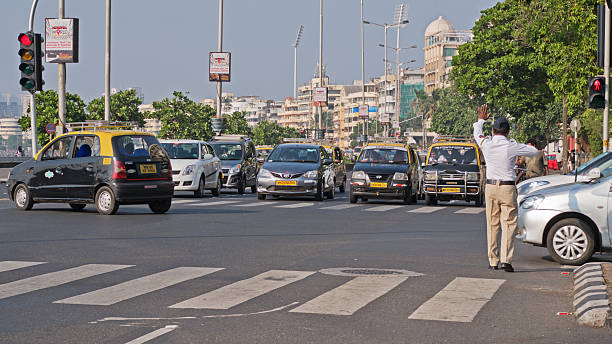car: (4, 129, 163, 211), (516, 159, 612, 265), (258, 142, 332, 201), (351, 142, 418, 200), (423, 139, 483, 203), (161, 139, 221, 196), (216, 135, 258, 192)
